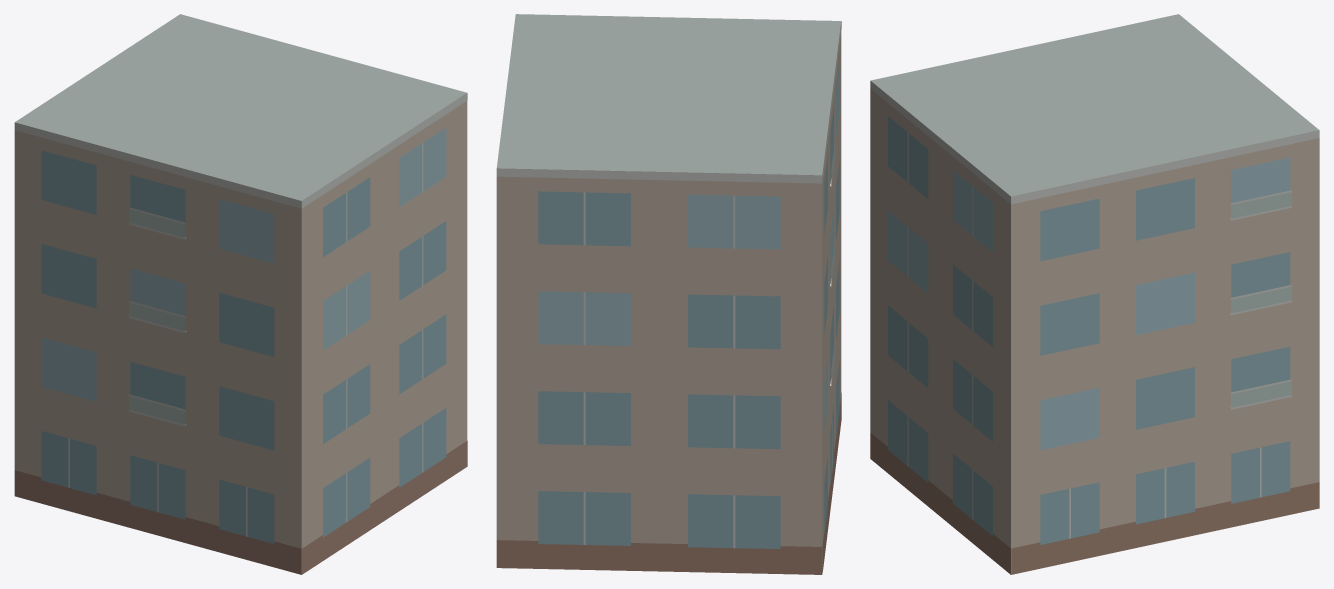
The model's file is survey-upis-32672650.glb.
The picture shows the model from 3 angles, left to right: view 1: azimuth 30°, elevation 25°; view 2: azimuth 150°, elevation 25°; view 3: azimuth 270°, elevation 25°; orthographic projection. The views are drawn at different scales.
Visible parts, largest first — view 1: survey-upis-32672650.tmp; view 2: survey-upis-32672650.tmp; view 3: survey-upis-32672650.tmp.
Boxes of the visible parts, x1,y1,x2,y2 form: survey-upis-32672650.tmp: [14, 14, 467, 574]; survey-upis-32672650.tmp: [496, 14, 841, 574]; survey-upis-32672650.tmp: [870, 14, 1319, 574].
Bounding box in the file's own units: 12.19 × 11.77 × 12.67.
